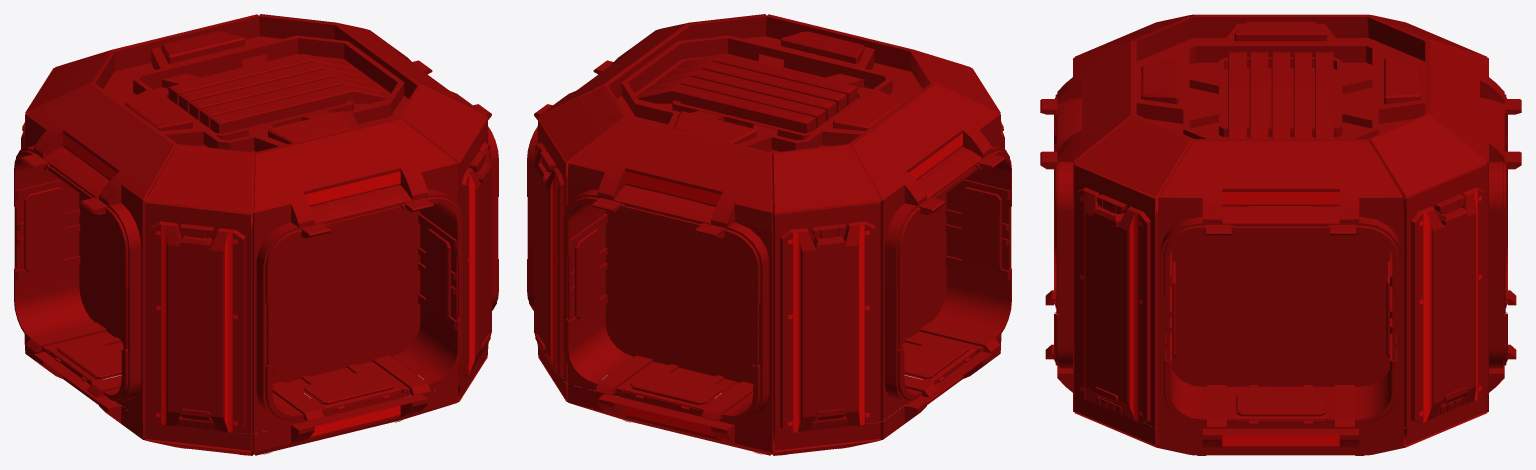
File: SM_ConveyorSplitter_01.gltf
3 renders of one model, left to right at view 1: azimuth 30°, elevation 25°; view 2: azimuth 150°, elevation 25°; view 3: azimuth 270°, elevation 25°, orthographic. The views are drawn at different scales.
Parts seen in each view (by area): view 1: SM_ConveyorSplitter_01; view 2: SM_ConveyorSplitter_01; view 3: SM_ConveyorSplitter_01.
Boxes of the visible parts, left/top/right/bottom form: SM_ConveyorSplitter_01: left=14, top=14, right=498, bottom=455; SM_ConveyorSplitter_01: left=527, top=14, right=1011, bottom=455; SM_ConveyorSplitter_01: left=1040, top=14, right=1521, bottom=455.
Bounding box in the file's own units: 4.13 × 3 × 4.13.
